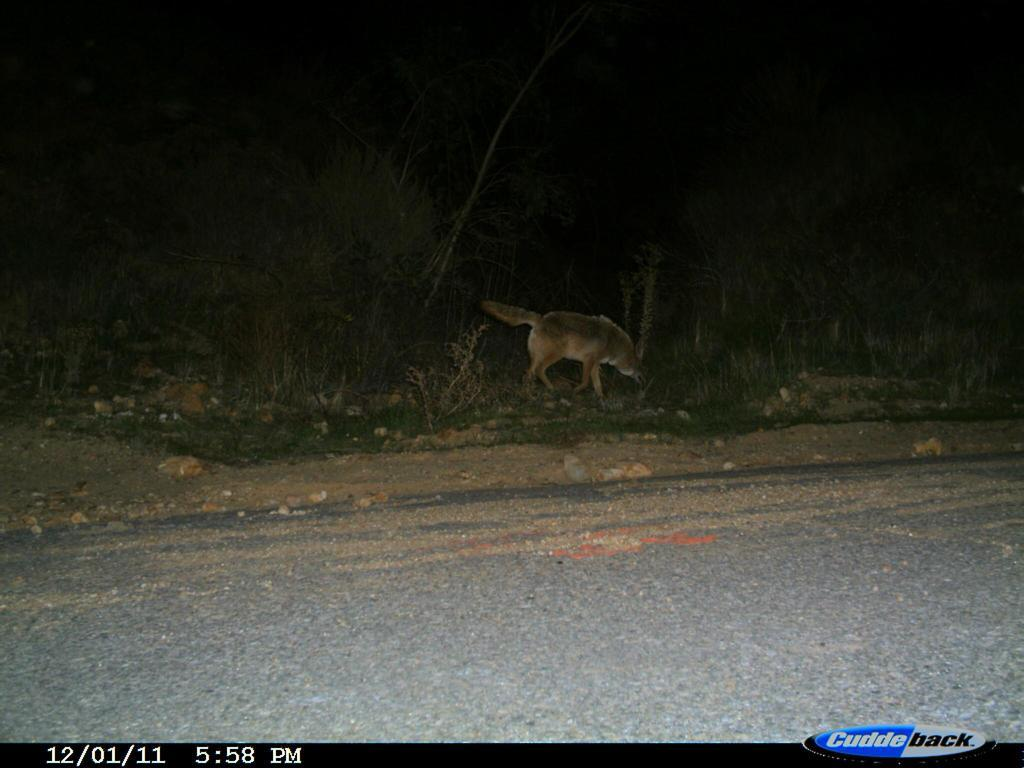coyote: (478, 292, 649, 411)
